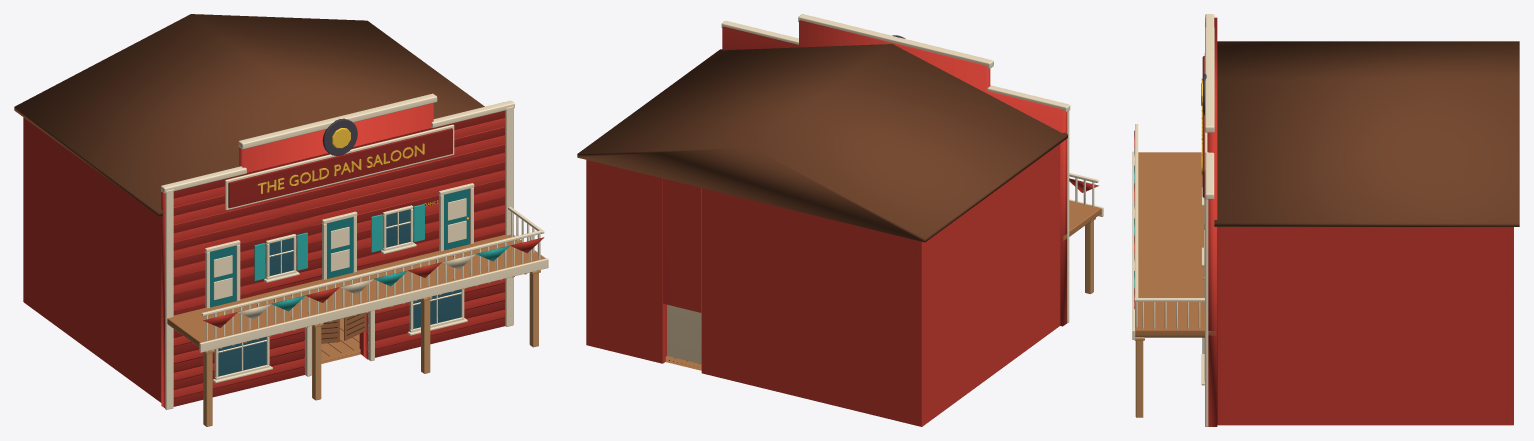
Rendered from gulch_saloon.glb.
The picture shows the model from 3 angles, left to right: view 1: azimuth 30°, elevation 25°; view 2: azimuth 150°, elevation 25°; view 3: azimuth 270°, elevation 25°; orthographic projection. The views are drawn at different scales.
Parts seen in each view (by area): view 1: Saloon; view 2: Saloon; view 3: Saloon.
Boxes of the visible parts, x1,y1,x2,y2 form: Saloon: [14, 14, 548, 426]; Saloon: [577, 14, 1103, 426]; Saloon: [1132, 14, 1519, 426].
Bounding box in the file's own units: 14.5 × 9.75 × 13.07.
